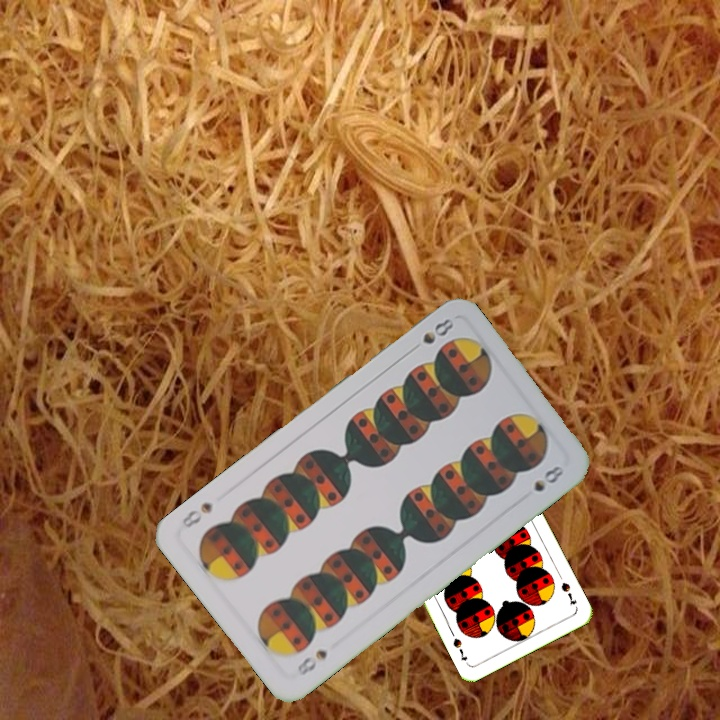S7: (557, 578, 579, 608)
S8: (406, 314, 457, 358), (293, 645, 330, 679)
